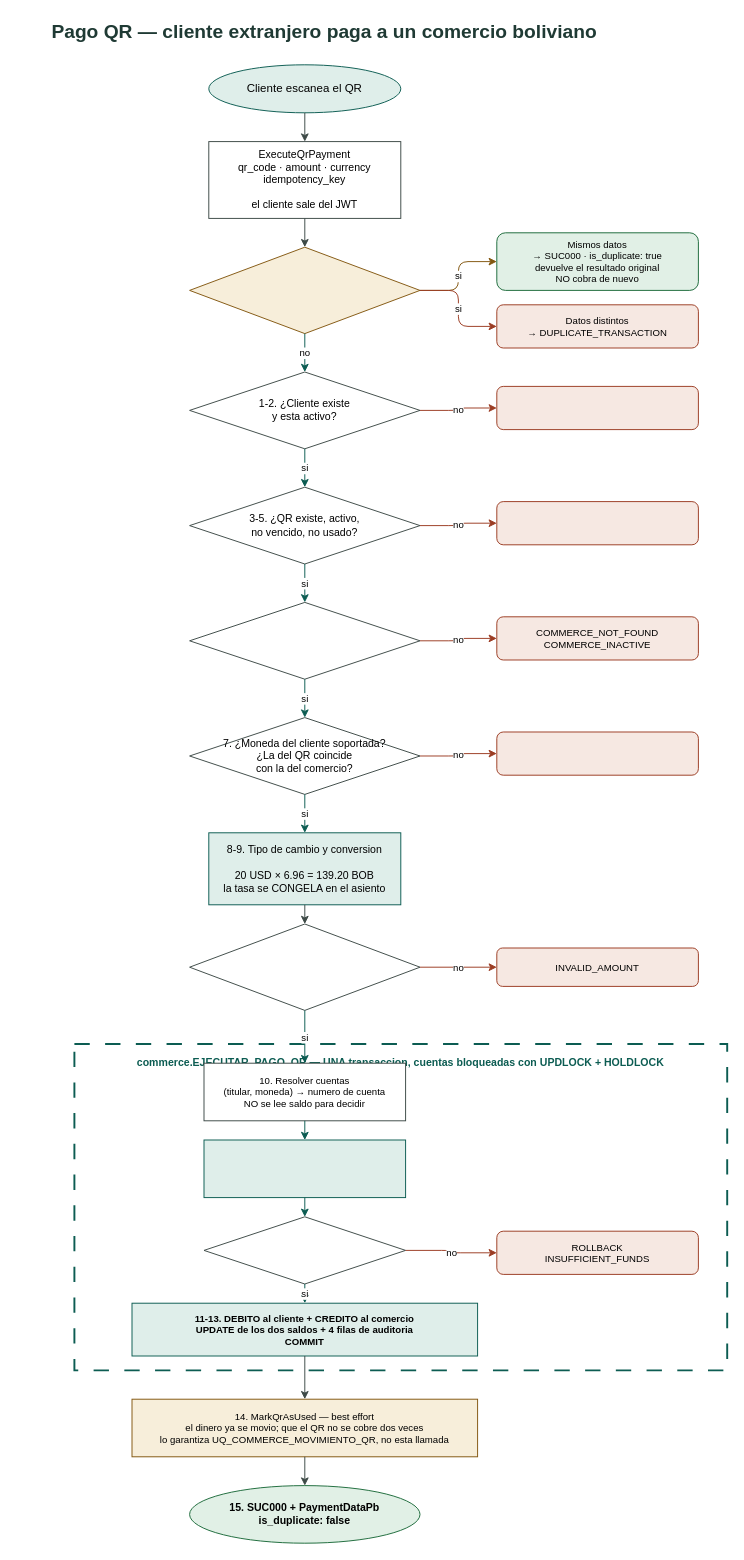
Some shapes in this 744 by 1560 pixel diagram are drawn without their labels. Each missing label, with the centre of its shape:
"0. ¿La idempotency_key ya se uso?" belongs at pixel 304 290.
"10. ¿Saldo suficiente?" belongs at pixel 304 1250.
"6. ¿Comercio existe y esta activo?" belongs at pixel 304 640.
"Bloquear las DOS cuentas en una sola sentencia WITH (UPDLOCK, HOLDLOCK)" belongs at pixel 304 1168.
"CURRENCY_NOT_SUPPORTED CURRENCY_MISMATCH" belongs at pixel 597 753.
"CUSTOMER_NOT_FOUND CUSTOMER_INACTIVE" belongs at pixel 597 407.
"QR_NOT_FOUND · QR_INACTIVE QR_EXPIRED · QR_ALREADY_USED" belongs at pixel 597 523.
"¿El convertido coincide con el monto del QR? (monto 0 = QR abierto)" belongs at pixel 304 966.
